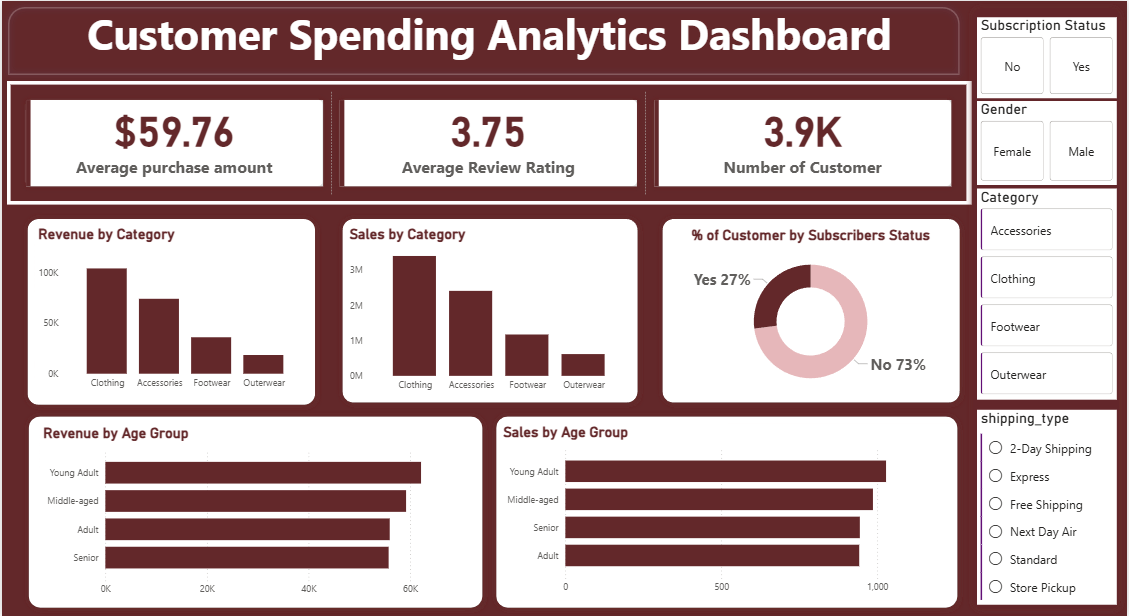

The dashboard page shown, as its layout file describes it:
{"tool":"powerbi","page":{"name":"Page 1","canvas":[1500,820],"ordinal":0},"visuals":[{"type":"cardVisual","fields":{"Data":["customer_behavior customer.Average purchase amount","customer_behavior customer.Average Review Rating","customer_behavior customer.Number of Customer"]},"box":[6.7,106.7,1286.7,165],"z":0},{"type":"shape","box":[0,0,1285,106.7],"z":1000},{"type":"textbox","box":[6.7,0,1286.7,106.7],"z":2000},{"type":"shape","box":[25.7,281.4,401.4,265.7],"z":3000},{"type":"shape","box":[871.4,281.4,414.3,262.9],"z":4000},{"type":"donutChart","title":"% of Customer by Subscribers Status","fields":{"Category":["customer_behavior customer.subscription_status"],"Y":["CountNonNull(customer_behavior customer.customer_id)"]},"box":[892.9,301.4,370,230],"z":5000},{"type":"shape","box":[444.3,281.4,411.4,262.9],"z":6000},{"type":"clusteredColumnChart","title":"Revenue by Category","fields":{"Y":["Sum(customer_behavior customer.purchase_amount)"],"Category":["customer_behavior customer.category"]},"box":[42.9,300,367.1,227.1],"z":7000},{"type":"clusteredColumnChart","title":"Sales by Category","fields":{"Y":["Sum(customer_behavior customer.customer_id)"],"Category":["customer_behavior customer.category"]},"box":[458.6,300,382.9,230],"z":8000},{"type":"shape","box":[1285.7,0,214.3,820],"z":9000},{"type":"advancedSlicerVisual","fields":{"Values":["customer_behavior customer.category"]},"box":[1300,250,186.7,281.7],"z":10000},{"type":"listSlicer","fields":{"Values":["customer_behavior customer.shipping_type"]},"box":[1300,545,186.7,260],"z":11000},{"type":"shape","box":[650,544.3,632.9,272.9],"z":12000},{"type":"clusteredBarChart","title":"Sales by Age Group","fields":{"Y":["CountNonNull(customer_behavior customer.customer_id)"],"Category":["customer_behavior customer.age_group"]},"box":[662.9,562.9,607.1,235.7],"z":13000},{"type":"shape","box":[27.1,544.3,622.9,272.9],"z":14000},{"type":"clusteredBarChart","title":"Revenue by Age Group","fields":{"Y":["Sum(customer_behavior customer.purchase_amount)"],"Category":["customer_behavior customer.age_group"]},"box":[50,564.3,577.1,237.1],"z":15000},{"type":"advancedSlicerVisual","title":"Gender","fields":{"Values":["customer_behavior customer.gender"]},"box":[1300,133.3,186.7,111.7],"z":16000},{"type":"advancedSlicerVisual","title":"Subscription Status","fields":{"Values":["customer_behavior customer.subscription_status"]},"box":[1300,21.7,186.7,108.3],"z":17000}]}

Visuals, with their boxes in screenshot pixels (x1, y1, x2, y2), scaled from the page's 1500x820 canvas onto the 1129x616 screenshot:
cardVisual - customer_behavior customer.Average purchase amount x customer_behavior customer.Average Review Rating: bbox=[5, 80, 973, 204]
shape: bbox=[0, 0, 967, 80]
textbox: bbox=[5, 0, 973, 80]
shape: bbox=[19, 211, 321, 411]
shape: bbox=[656, 211, 968, 409]
"% of Customer by Subscribers Status" donutChart: bbox=[672, 226, 951, 399]
shape: bbox=[334, 211, 644, 409]
"Revenue by Category" clusteredColumnChart: bbox=[32, 225, 309, 396]
"Sales by Category" clusteredColumnChart: bbox=[345, 225, 633, 398]
shape: bbox=[968, 0, 1128, 615]
advancedSlicerVisual - customer_behavior customer.category: bbox=[978, 188, 1119, 399]
listSlicer - customer_behavior customer.shipping_type: bbox=[978, 409, 1119, 605]
shape: bbox=[489, 409, 966, 614]
"Sales by Age Group" clusteredBarChart: bbox=[499, 423, 956, 600]
shape: bbox=[20, 409, 489, 614]
"Revenue by Age Group" clusteredBarChart: bbox=[38, 424, 472, 602]
"Gender" advancedSlicerVisual: bbox=[978, 100, 1119, 184]
"Subscription Status" advancedSlicerVisual: bbox=[978, 16, 1119, 98]
